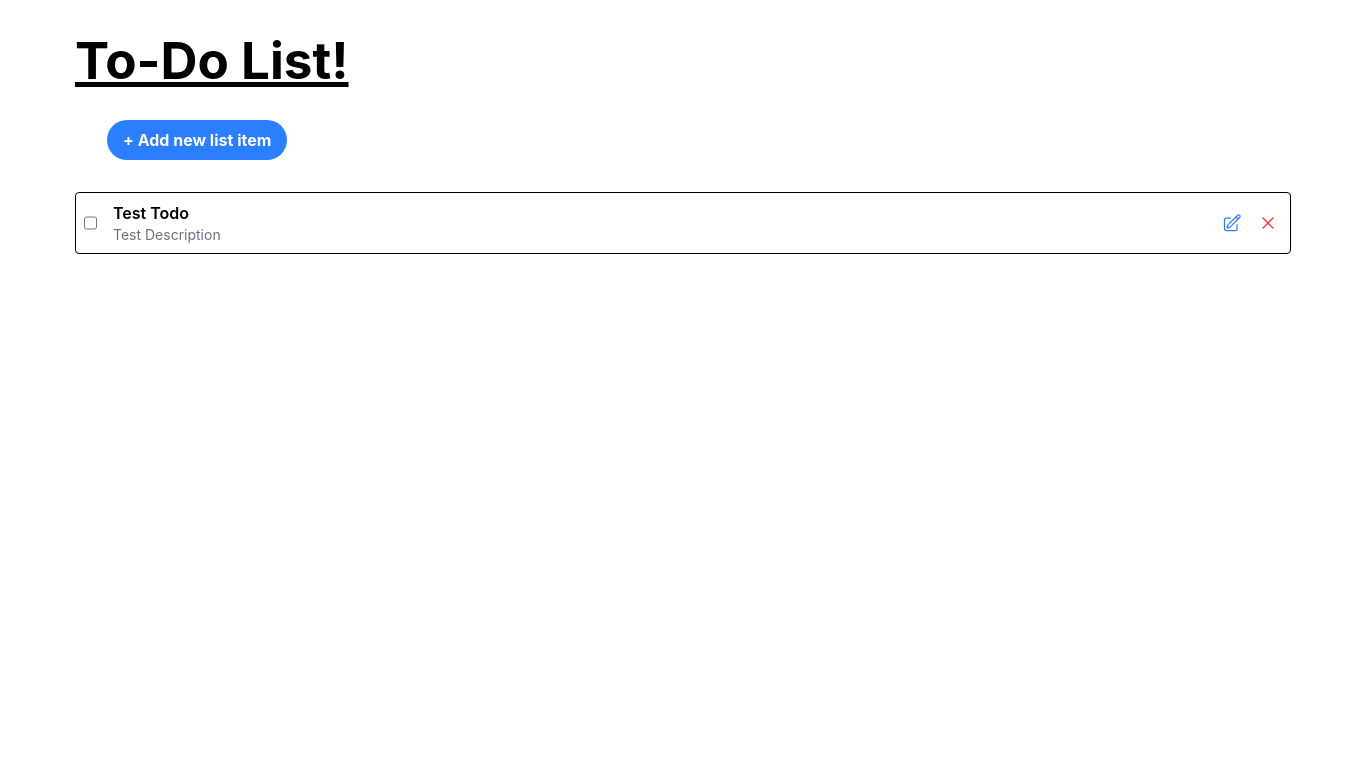
Test: HomePage › pre-fills form data when editing a todo
Click the button with test id "edit-todo-button". click: point(1232, 223)
box: [1218,201,1246,245]
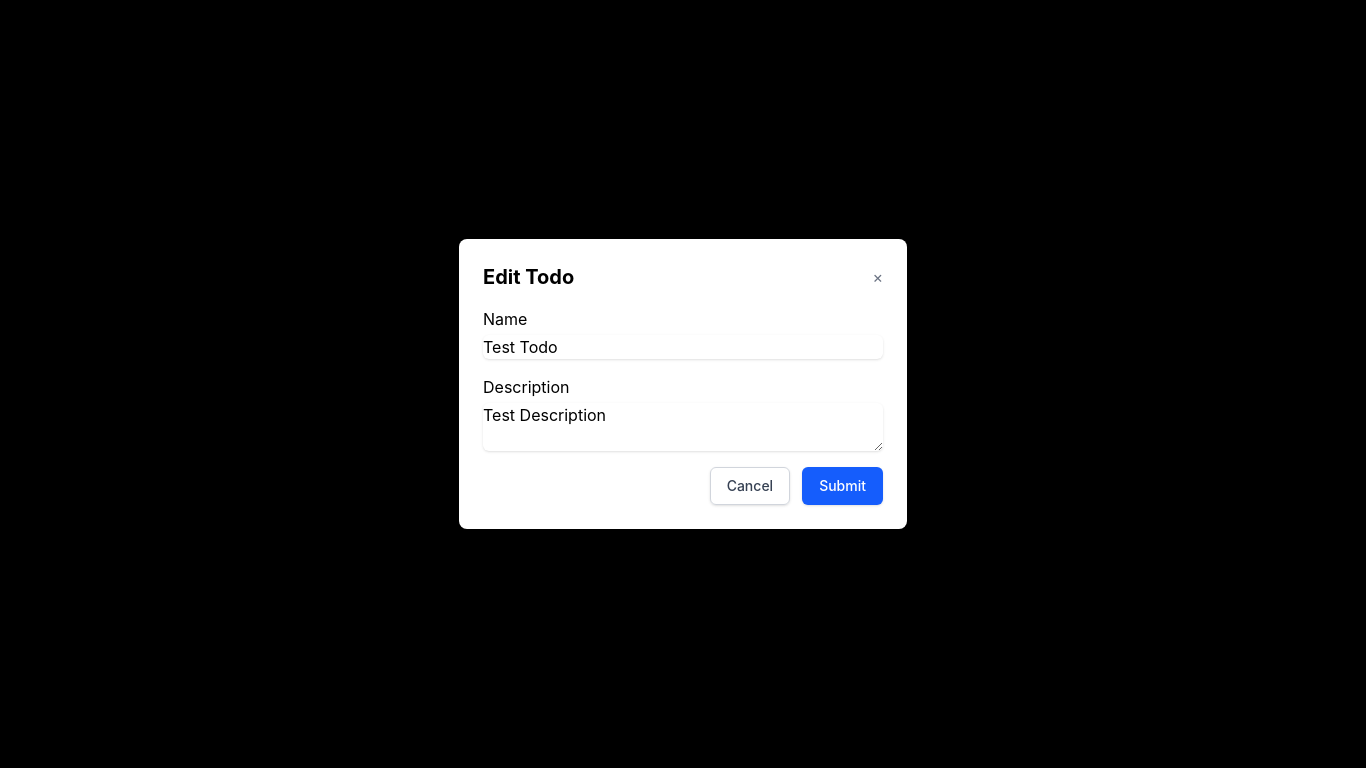
expect the heading with test id "modal-title" reads "Edit Todo": met, box [483,265,574,289]
expect the field with test id "todo-name-input" holds "Test Todo": met, box [483,335,883,359]
expect the text box with test id "todo-description-input" holds "Test Description": met, box [483,403,883,451]
